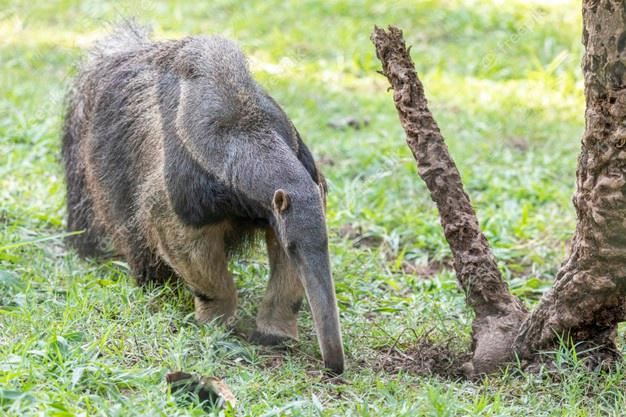TamanduaBandeira: (60, 23, 358, 385)
